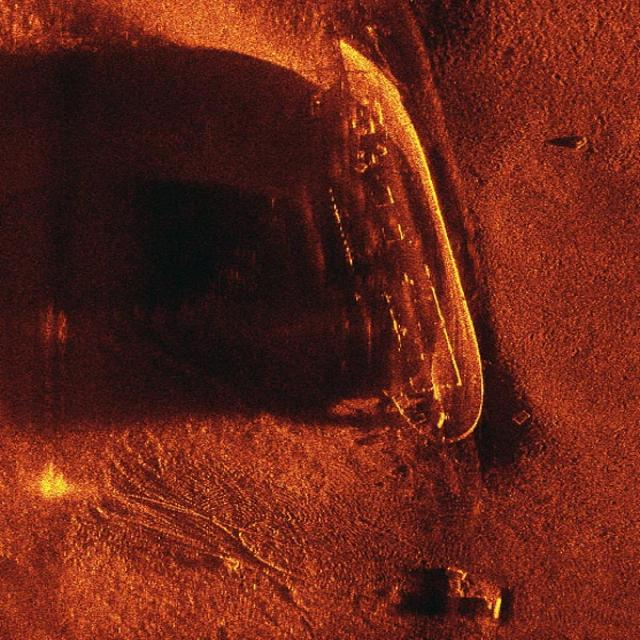ship: (289, 37, 502, 447)
